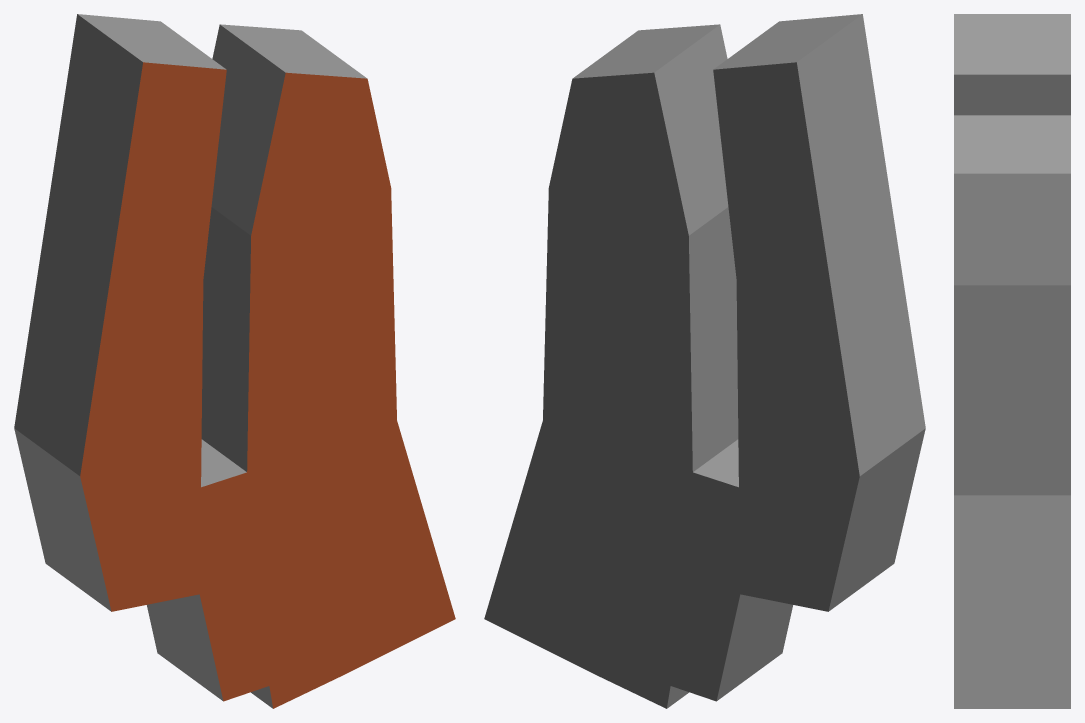
Rendered from construction_6566_assumed_A_Casa_h6m.obj.
3 views of the same model, side by side, from view 1: azimuth 30°, elevation 25°; view 2: azimuth 150°, elevation 25°; view 3: azimuth 270°, elevation 25° (orthographic). The views are drawn at different scales.
Visible parts, largest first — view 1: construction_6566_assumed_A_Casa; view 2: construction_6566_assumed_A_Casa; view 3: construction_6566_assumed_A_Casa.
Boxes of the visible parts, bbox=[...] form: construction_6566_assumed_A_Casa: bbox=[14, 14, 455, 708]; construction_6566_assumed_A_Casa: bbox=[484, 14, 925, 708]; construction_6566_assumed_A_Casa: bbox=[954, 14, 1070, 708].
Bounding box in the file's own units: 19.71 × 34.02 × 6.
